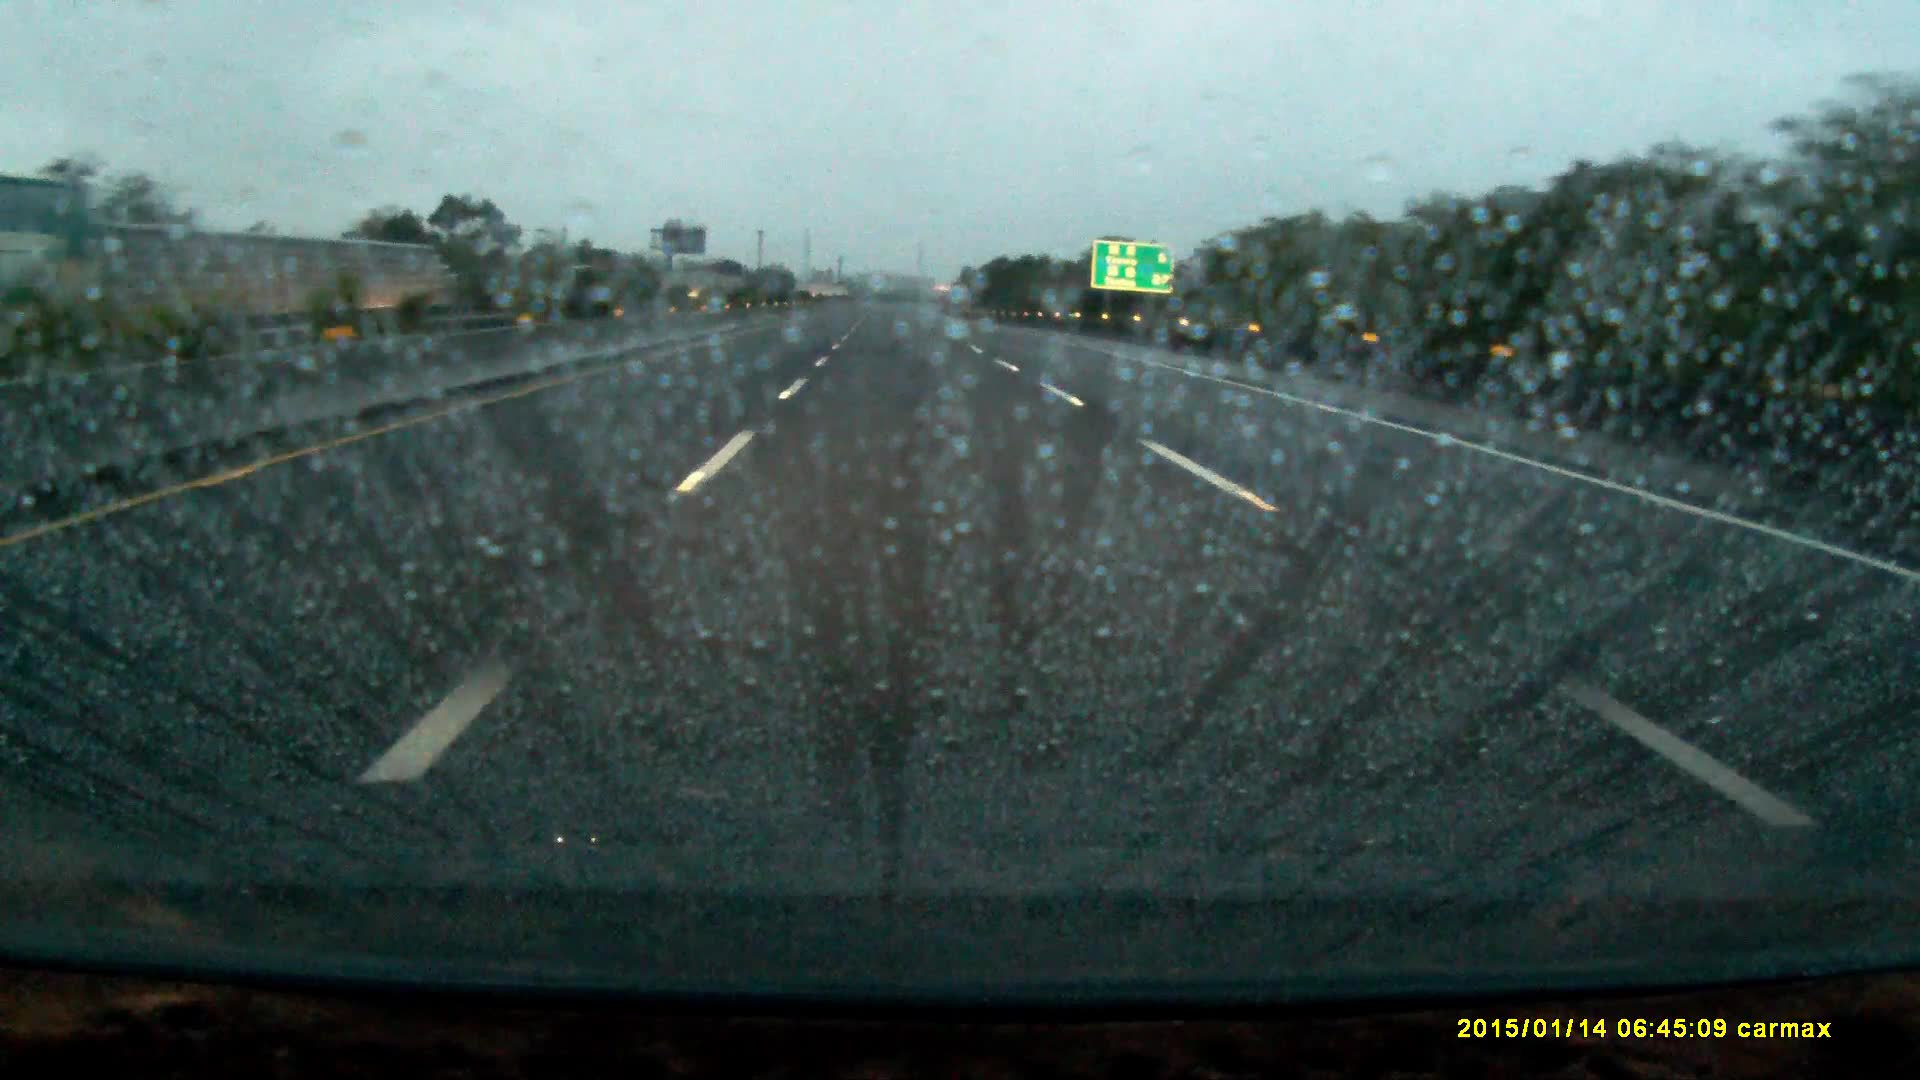vehicle: (1, 169, 103, 357), (556, 262, 636, 309)
